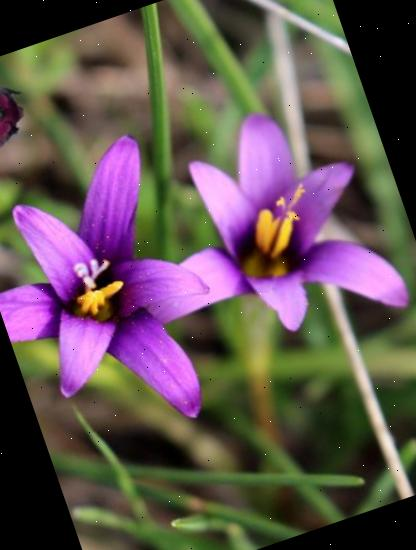Pitahaya: (0, 70, 32, 165)
